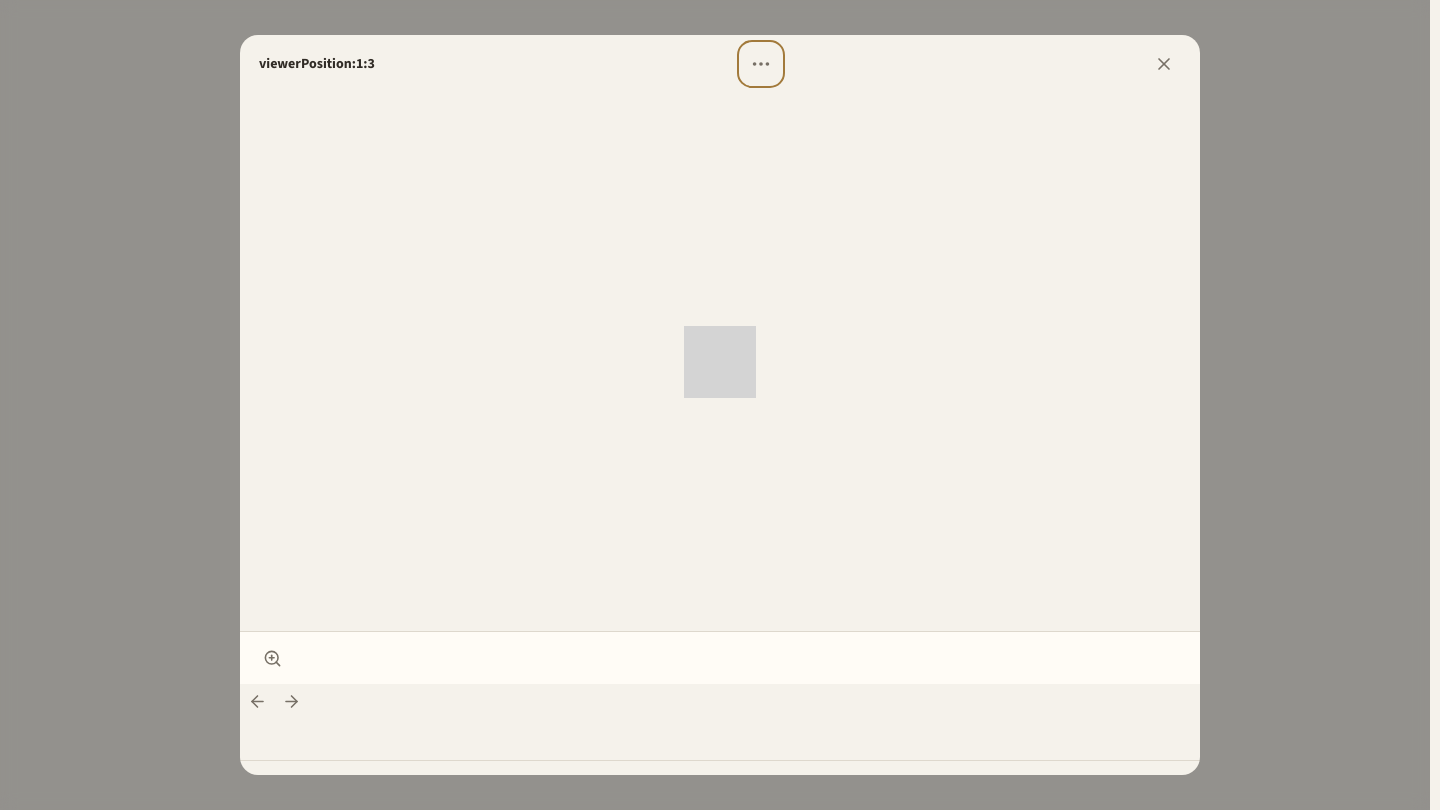
closes actions and forwards rename
The image size is (1440, 810).
Click the button named "viewerMore". click: (761, 64)
box: [744,47,778,81]
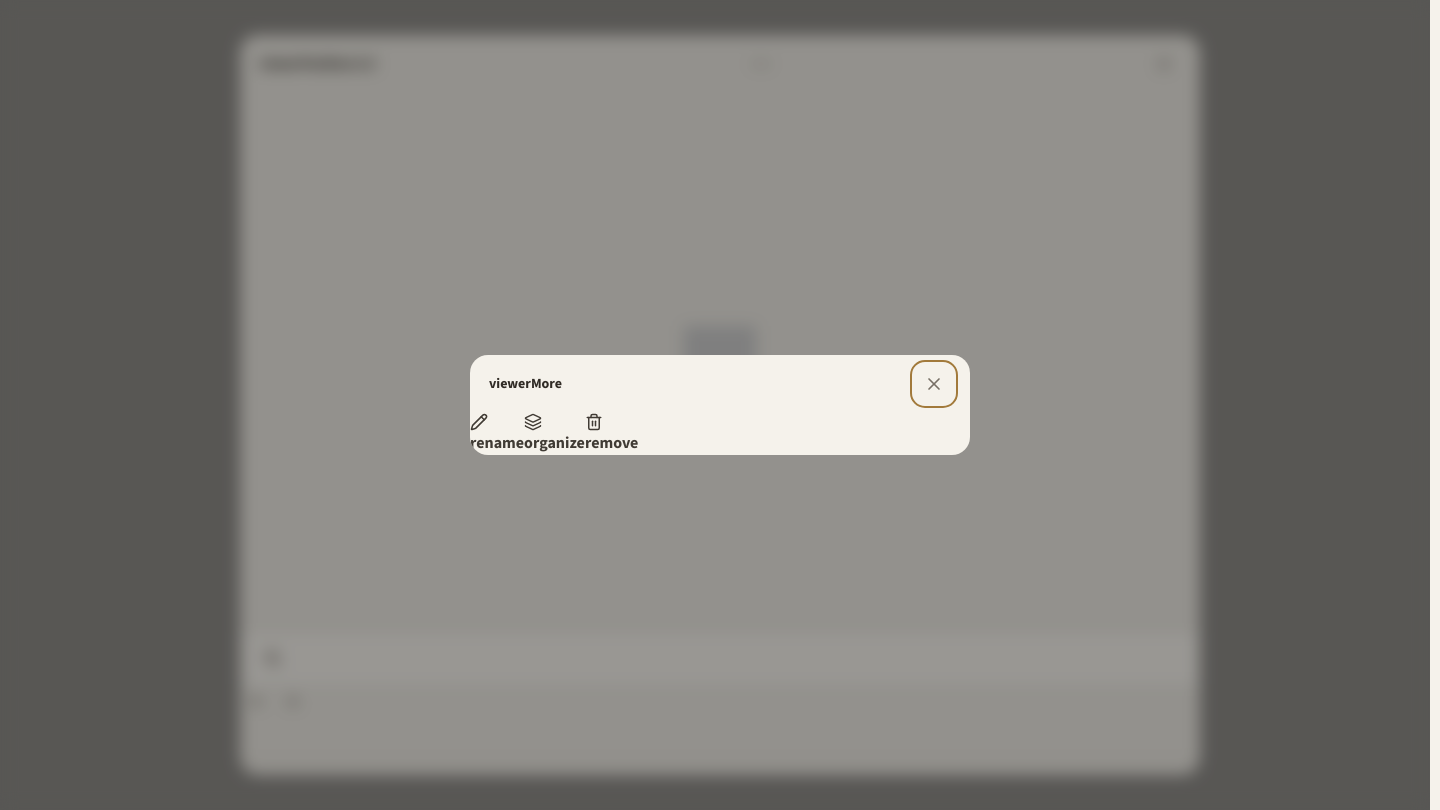
Click the button "rename". click: (497, 434)
box: [470,413,524,455]
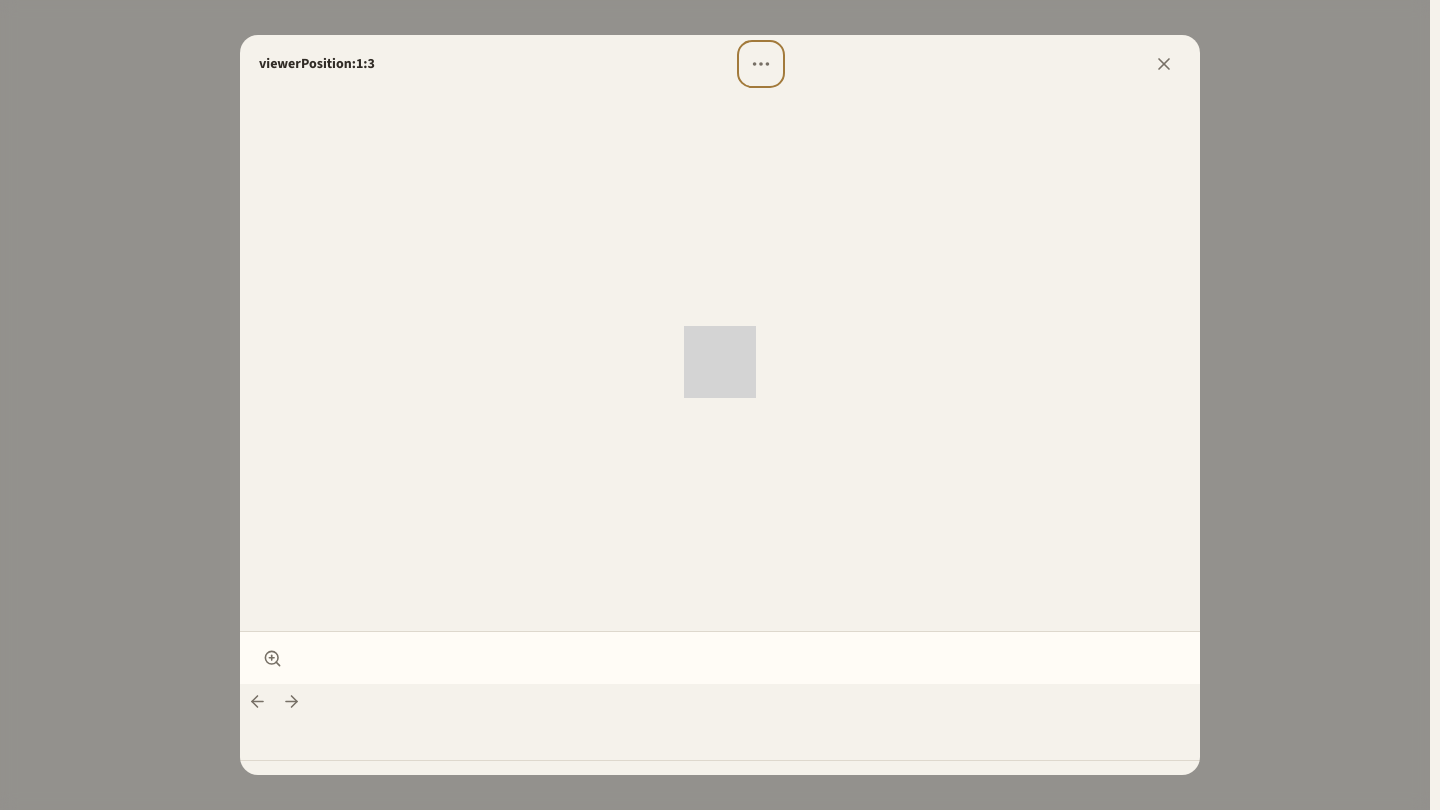
Expected: the heading "viewerMore" is gone
